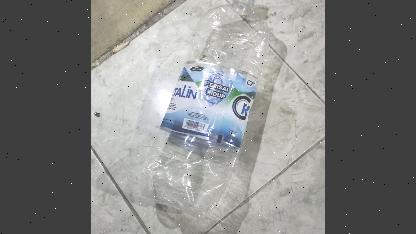Plastic Bottle: (140, 0, 271, 220)
